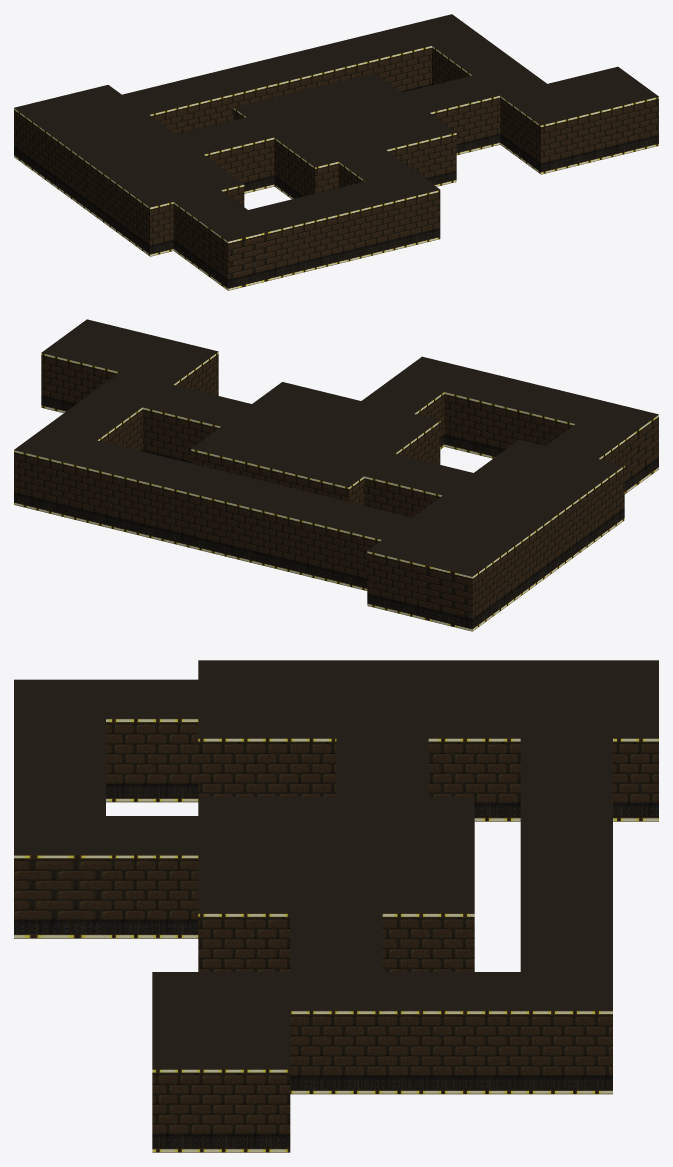
File: DoomCloneLevelsEXTRA.glb
3 renders of one model, top to bottom at view 1: azimuth 30°, elevation 25°; view 2: azimuth 150°, elevation 25°; view 3: azimuth 270°, elevation 25°, orthographic. The views are drawn at different scales.
Visible parts, largest first — view 1: Plane.001; view 2: Plane.001; view 3: Plane.001.
Boxes of the visible parts, x1,y1,x2,y2 form: Plane.001: (14,14,658,290); Plane.001: (14,319,658,631); Plane.001: (14,660,658,1152).
Size of the model in its own units: 21 by 2 by 14.
Materials: 2 (2 with a texture image).
